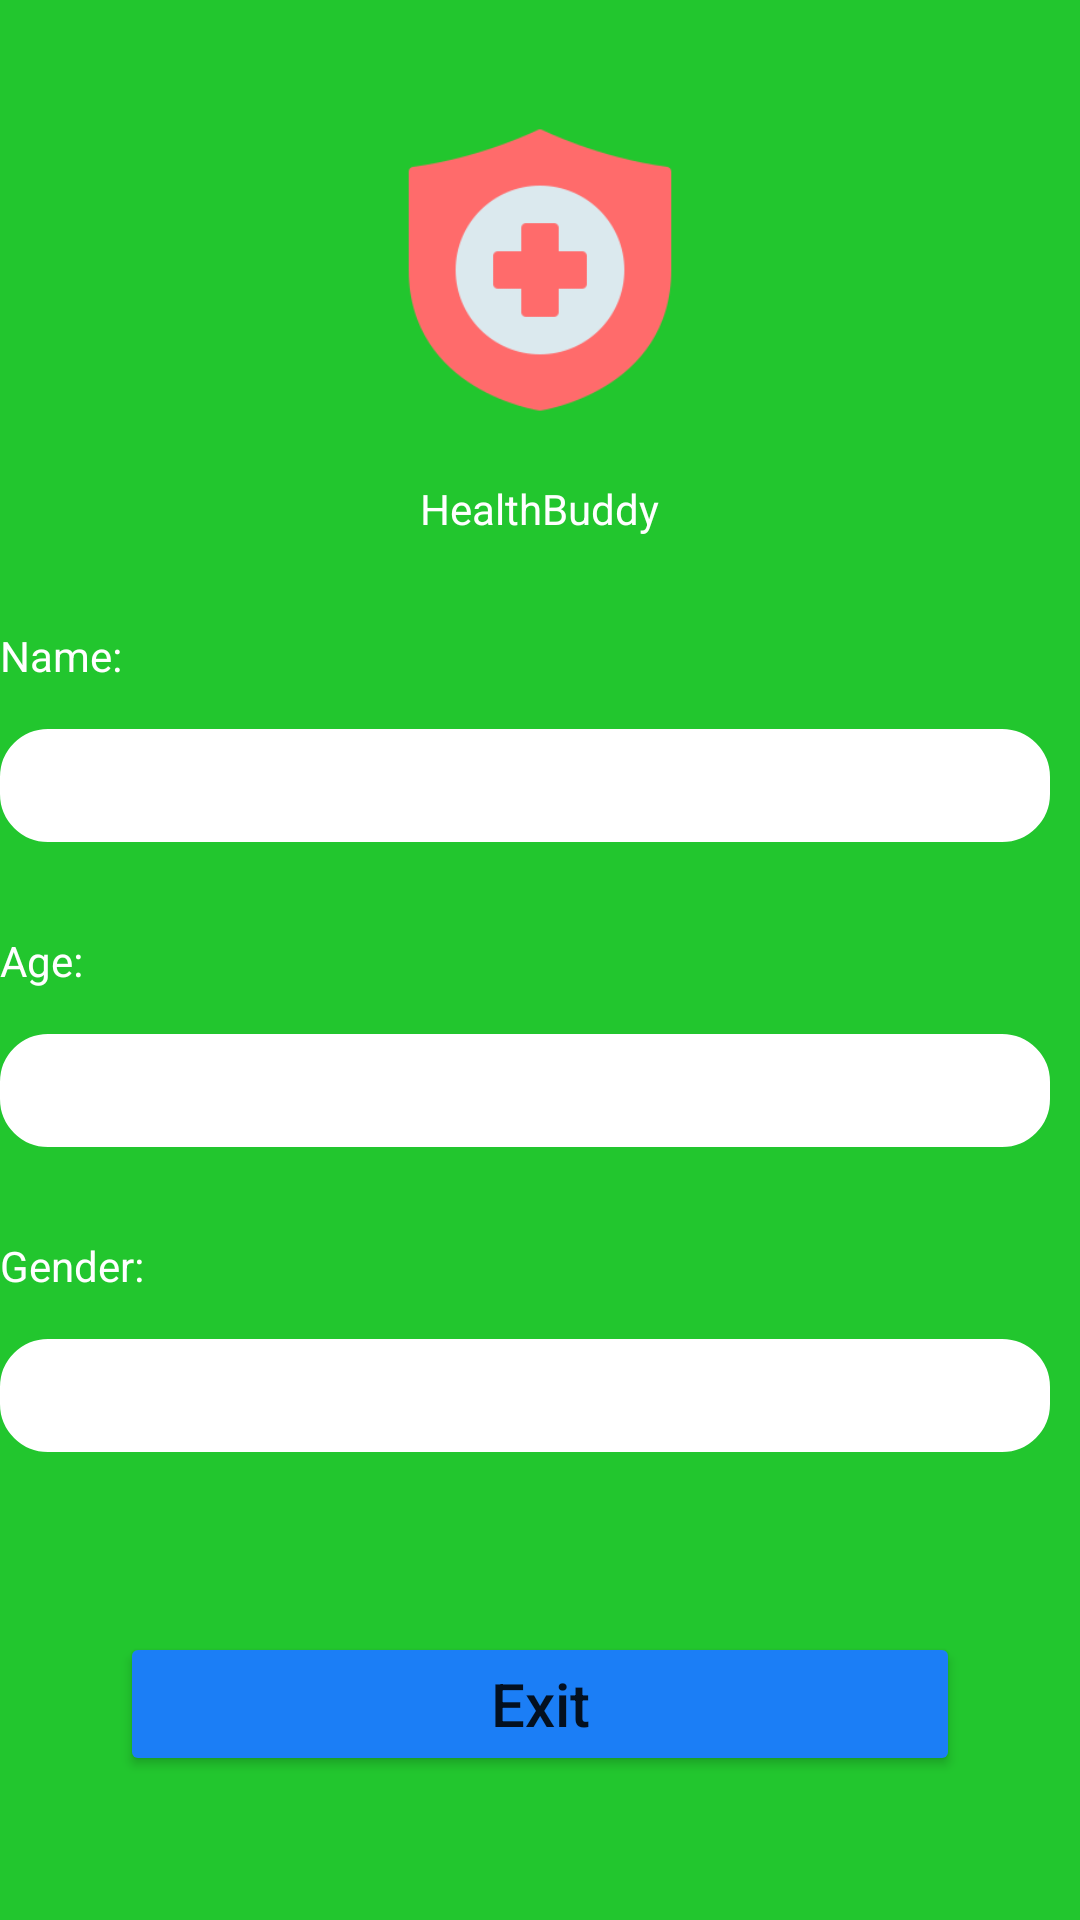

Named icons in this screenshot (1080 x 1920) and their centers, [x,y]:
app: [540,270]
